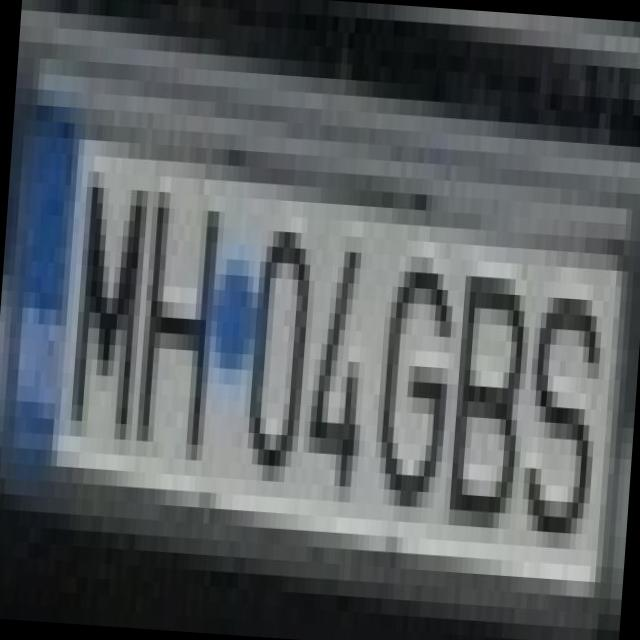0: (230, 182, 315, 452)
4: (290, 202, 381, 471)
B: (432, 227, 530, 514)
G: (362, 222, 458, 493)
H: (119, 143, 224, 445)
M: (54, 138, 150, 424)
S: (509, 264, 605, 534)
